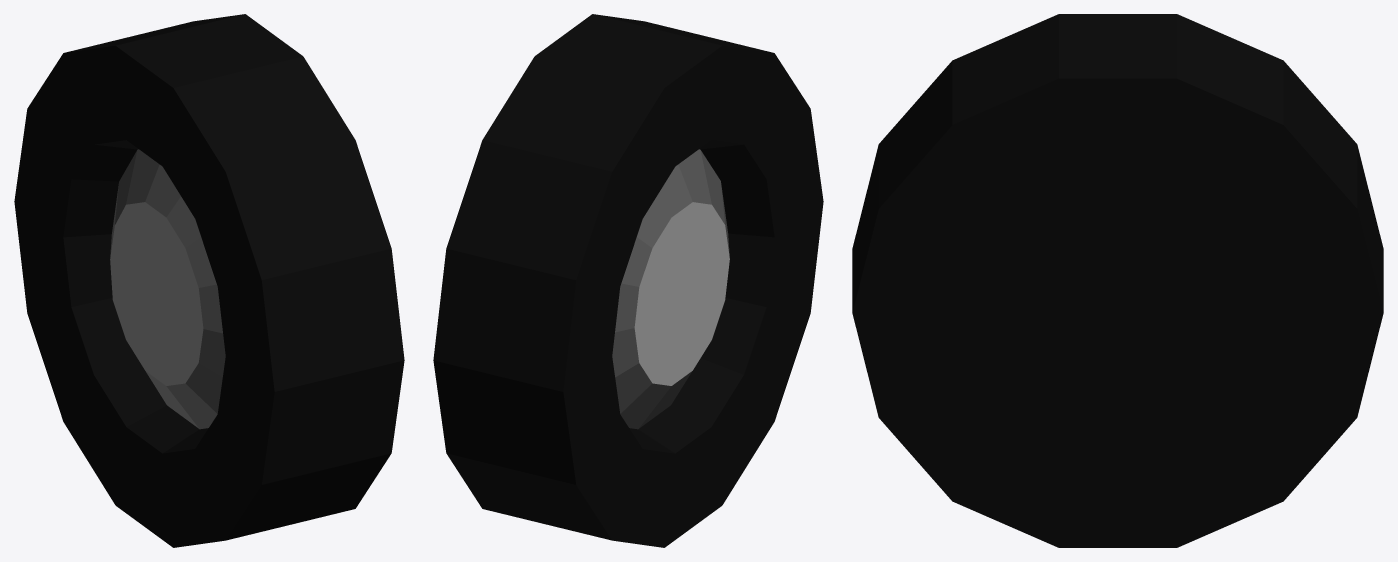
File: WheelDefaultFrontRight.fbx
3 views of the same model, side by side, from view 1: azimuth 30°, elevation 25°; view 2: azimuth 150°, elevation 25°; view 3: azimuth 270°, elevation 25° (orthographic). The views are drawn at different scales.
Visible parts, largest first — view 1: WheelDefaultFrontRight; view 2: WheelDefaultFrontRight; view 3: WheelDefaultFrontRight.
Boxes of the visible parts, left/top/right/bottom form: WheelDefaultFrontRight: left=14, top=14, right=404, bottom=547; WheelDefaultFrontRight: left=433, top=14, right=823, bottom=547; WheelDefaultFrontRight: left=852, top=14, right=1383, bottom=547.
Size of the model in its own units: 0.1477 by 0.4996 by 0.5124.
